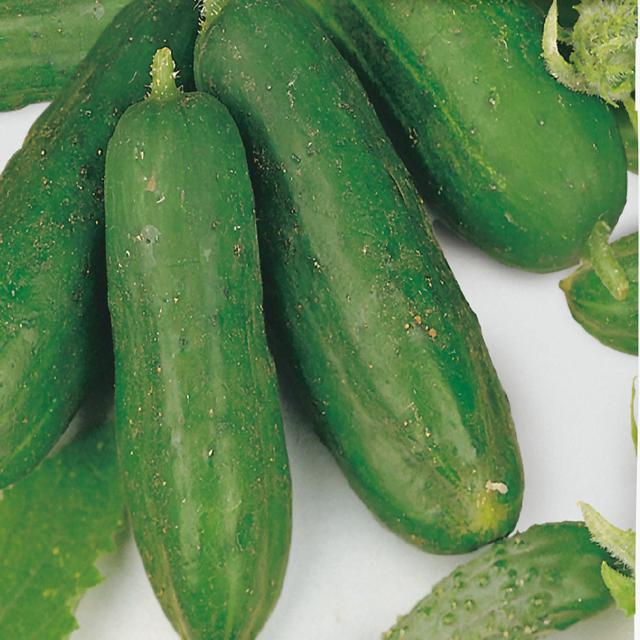Pickle: (195, 0, 524, 553), (105, 49, 291, 640), (0, 0, 198, 488), (305, 0, 626, 272)
